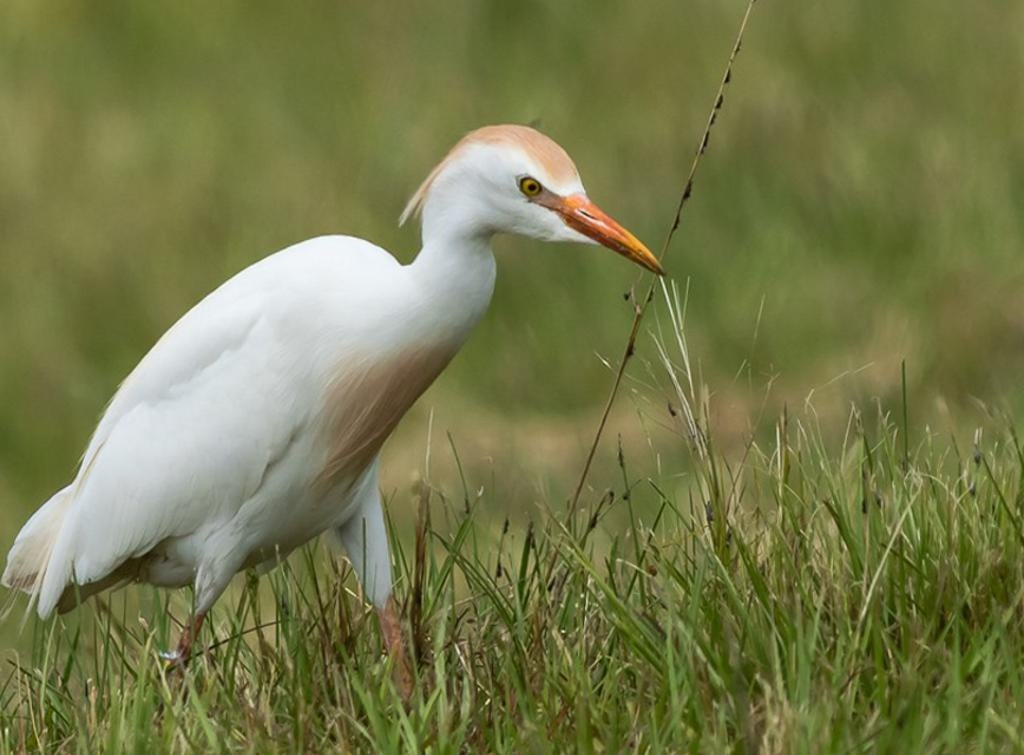egret: (1, 111, 686, 684)
